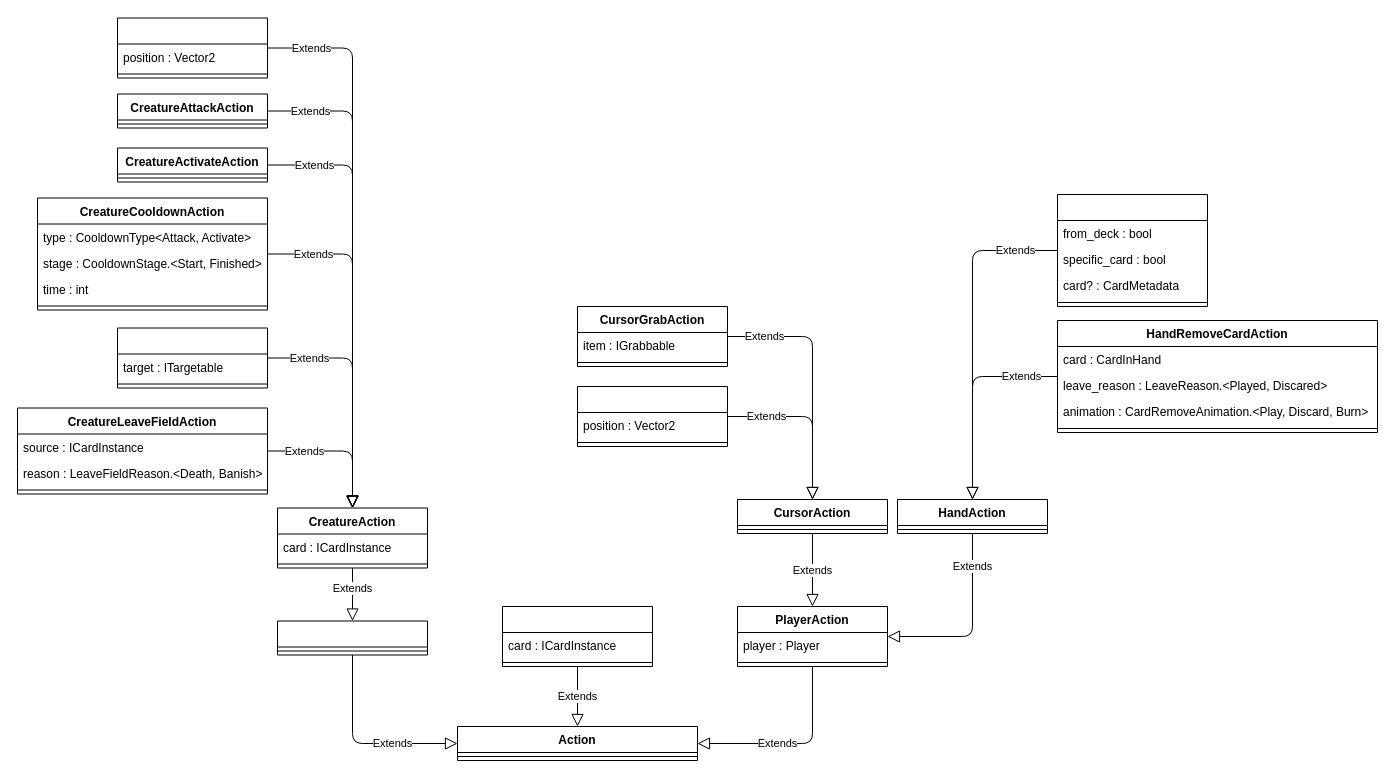
Some shapes in this 1395 by 778 pixel diagram are drawn without their labels. Here are the shapes that lost their labels. From the top down, the box of each, then its label:
(116, 17, 268, 78): CreatureSpawnAction
(1056, 194, 1208, 306): HandAddCardAction
(116, 327, 268, 388): CreatureTargetAction
(576, 386, 728, 446): CursorMotionAction
(276, 620, 428, 655): GamefieldAction
(502, 606, 652, 666): StatisticAction
